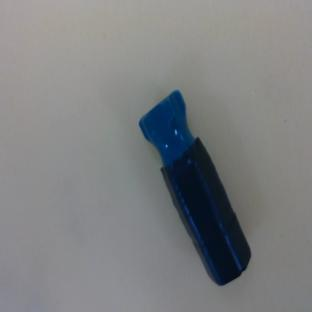part_2_bad: (132, 88, 259, 290)
